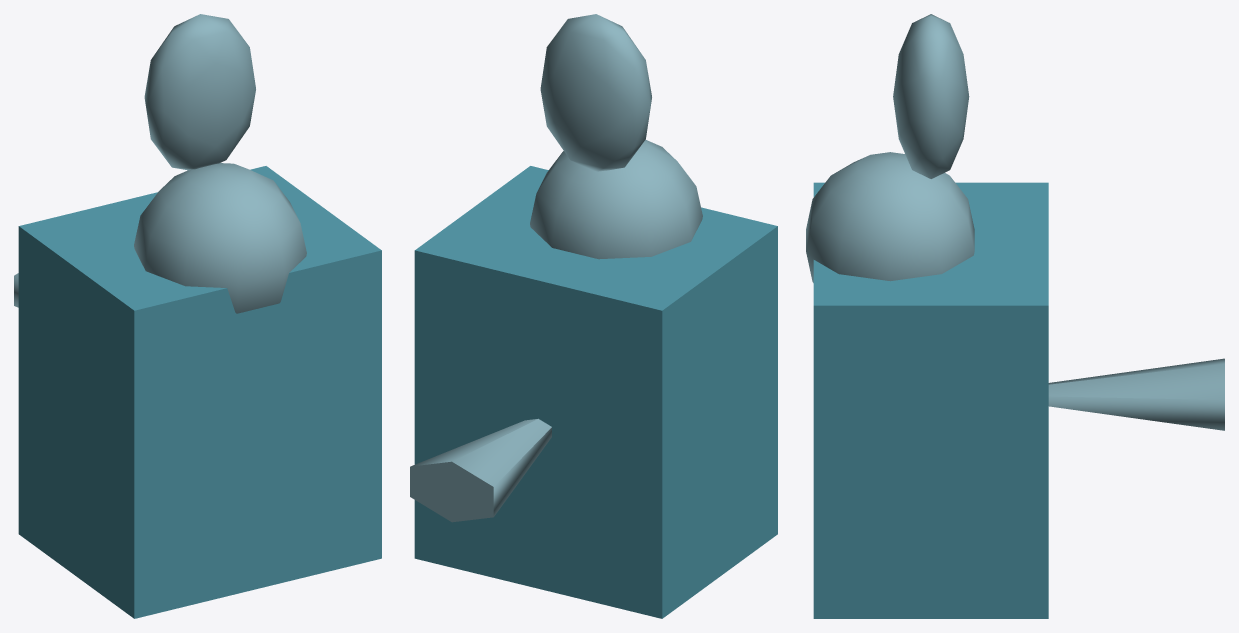
File: wind_elite.glb
3 renders of one model, left to right at view 1: azimuth 30°, elevation 25°; view 2: azimuth 150°, elevation 25°; view 3: azimuth 270°, elevation 25°, orthographic.
Visible parts, largest first — view 1: CoreBody, Head, ELITE_wind_crest; view 2: CoreBody, Head, ELITE_wind_crest, MOTIF_wind_tail; view 3: CoreBody, Head, ELITE_wind_crest, MOTIF_wind_tail.
Part boxes in pixels (x1=…): CoreBody: x1=18, y1=166, x2=381, y2=618; Head: x1=134, y1=163, x2=306, y2=313; ELITE_wind_crest: x1=144, y1=14, x2=255, y2=170; CoreBody: x1=414, y1=166, x2=777, y2=618; Head: x1=530, y1=139, x2=702, y2=259; ELITE_wind_crest: x1=540, y1=14, x2=651, y2=171; MOTIF_wind_tail: x1=410, y1=418, x2=551, y2=522; CoreBody: x1=813, y1=182, x2=1048, y2=618; Head: x1=806, y1=152, x2=974, y2=282; ELITE_wind_crest: x1=893, y1=14, x2=969, y2=178; MOTIF_wind_tail: x1=1048, y1=358, x2=1224, y2=430.
Size of the model in its own units: 1.28 by 2.63 by 1.85.
